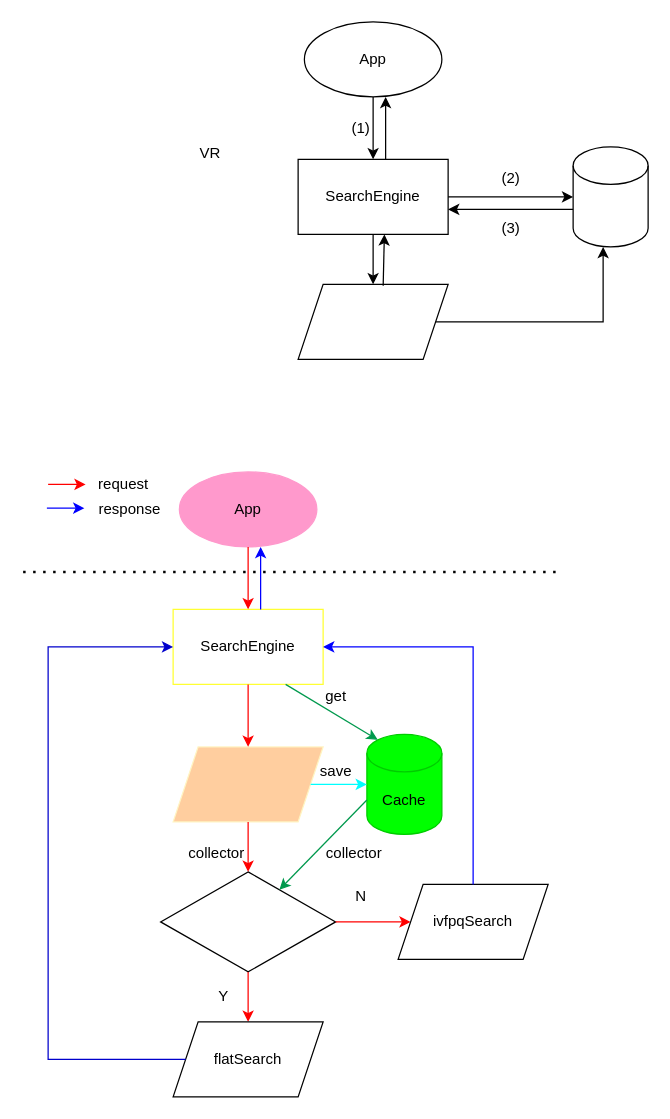
Image size: 670x1119. Some labels were removed from this diagram. Each missing label, with the box of its shape:
Detect: (172, 746, 323, 822)
index: (297, 283, 448, 359)
Redis: (572, 146, 648, 247)
totalHits < threshold: (159, 871, 336, 972)
